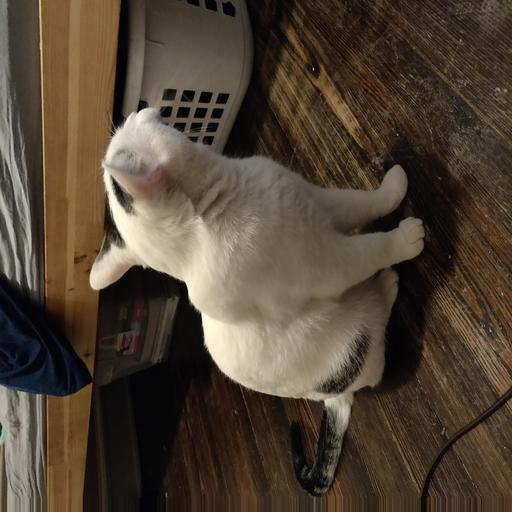cat: (88, 97, 386, 395)
